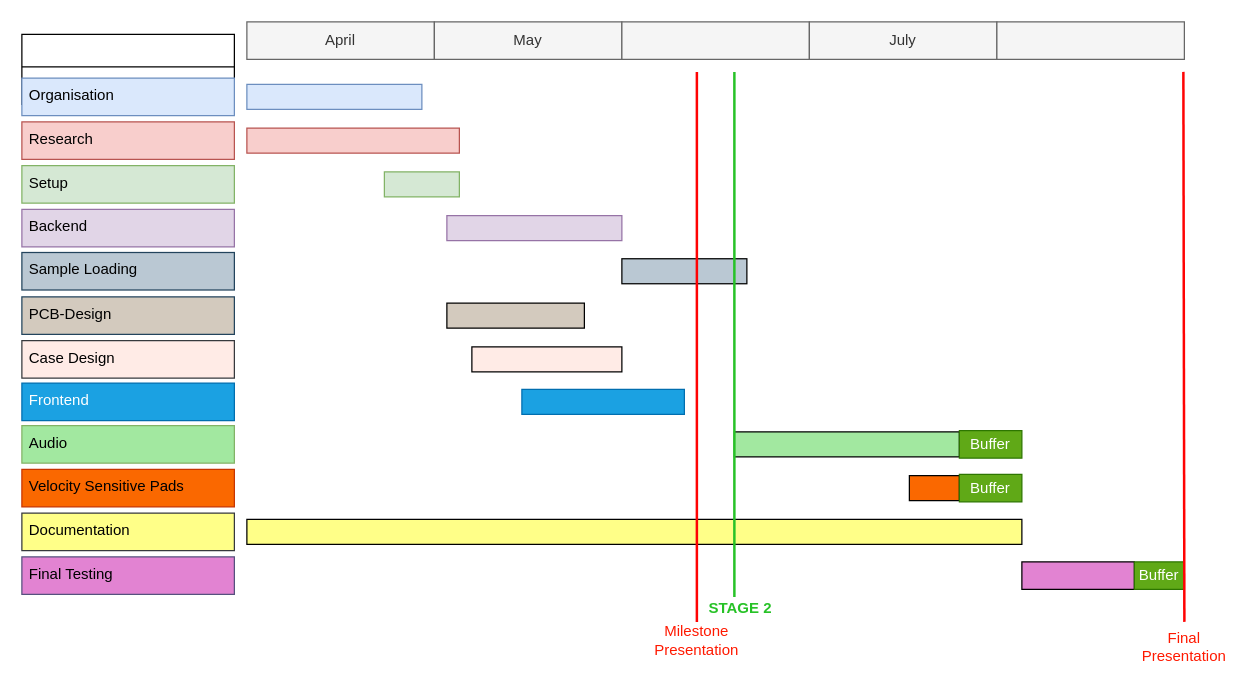
This 1248x694 diagram has some shape labels left out. The shapes that lost their labels are listed below. From the top down, each one's box as (x1, y1, x2, y2) in pixels, then its label:
(621, 21, 809, 59): June
(996, 21, 1184, 59): August
(21, 33, 234, 104): Tasks
